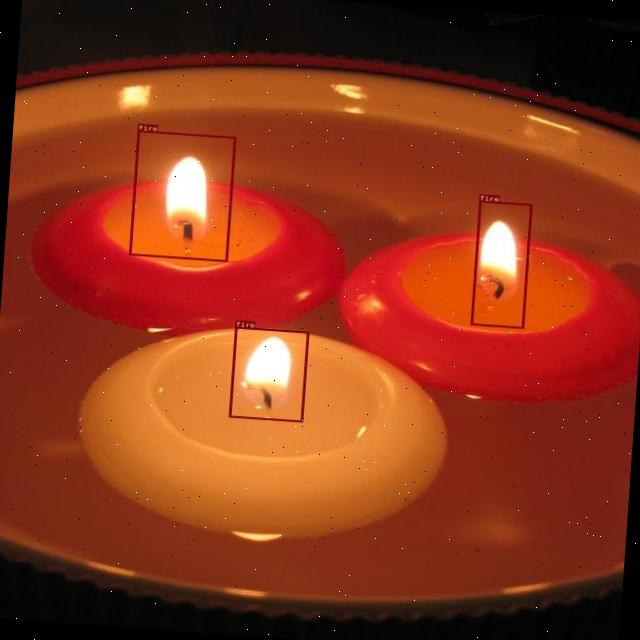fire: (128, 128, 235, 262), (470, 200, 532, 328), (228, 326, 308, 421)
